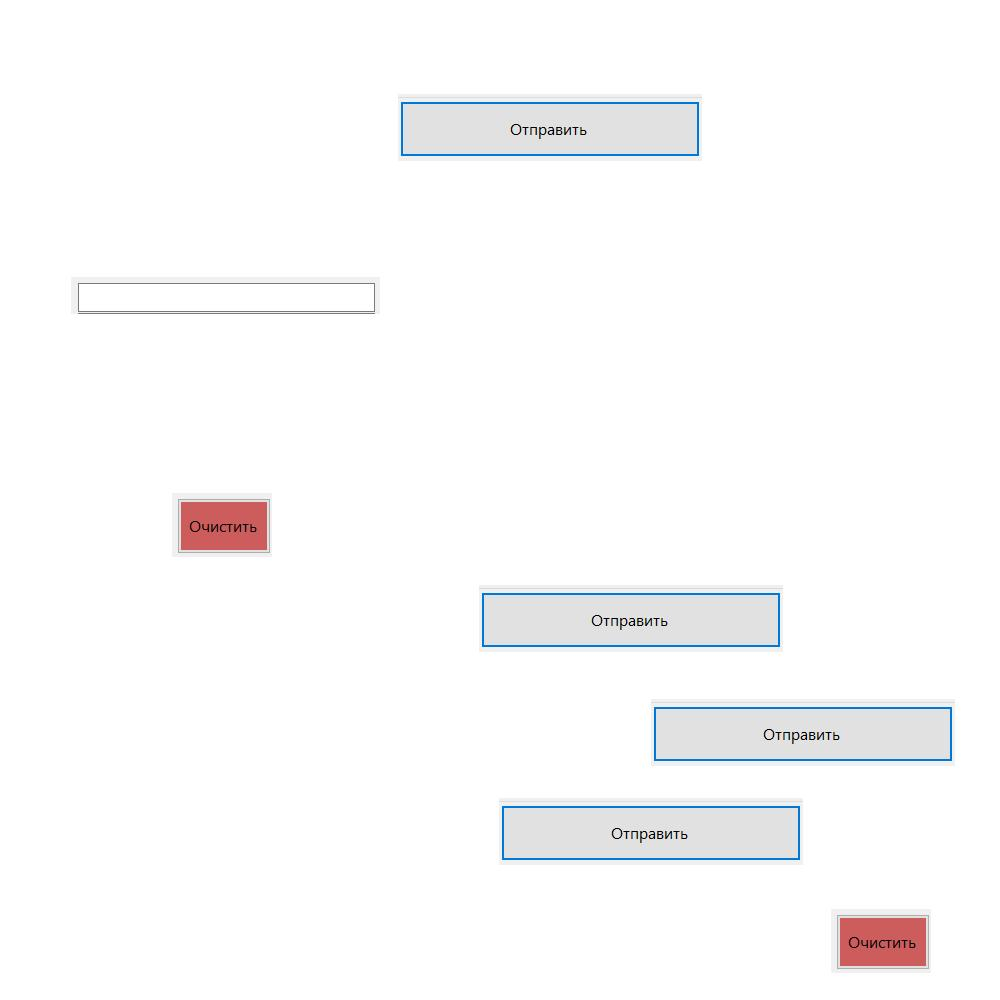Button: (398, 94, 702, 161), (651, 699, 955, 766), (479, 585, 783, 652), (499, 798, 803, 865), (831, 909, 931, 973), (172, 493, 272, 557)
EditText-: (71, 277, 380, 314)
